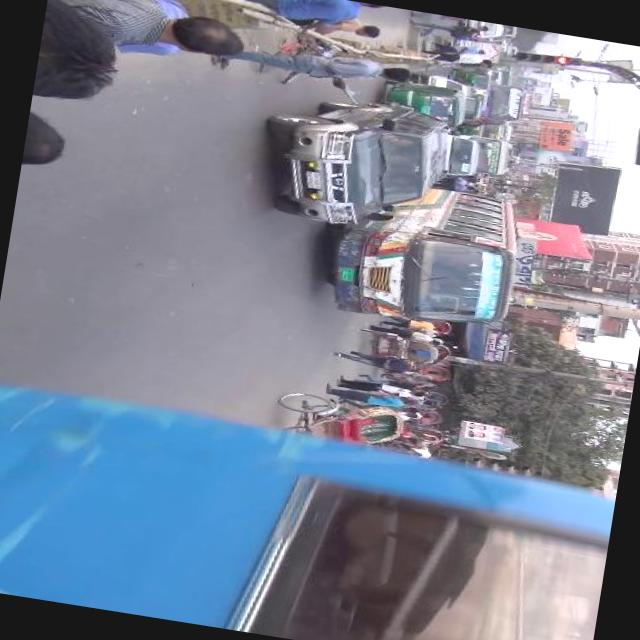bus: (308, 167, 526, 340), (484, 76, 536, 128), (464, 134, 519, 180)
car: (252, 76, 460, 244)
motorcycle: (265, 384, 414, 451), (376, 70, 472, 130), (356, 326, 443, 367), (384, 356, 454, 385), (448, 64, 494, 90)
